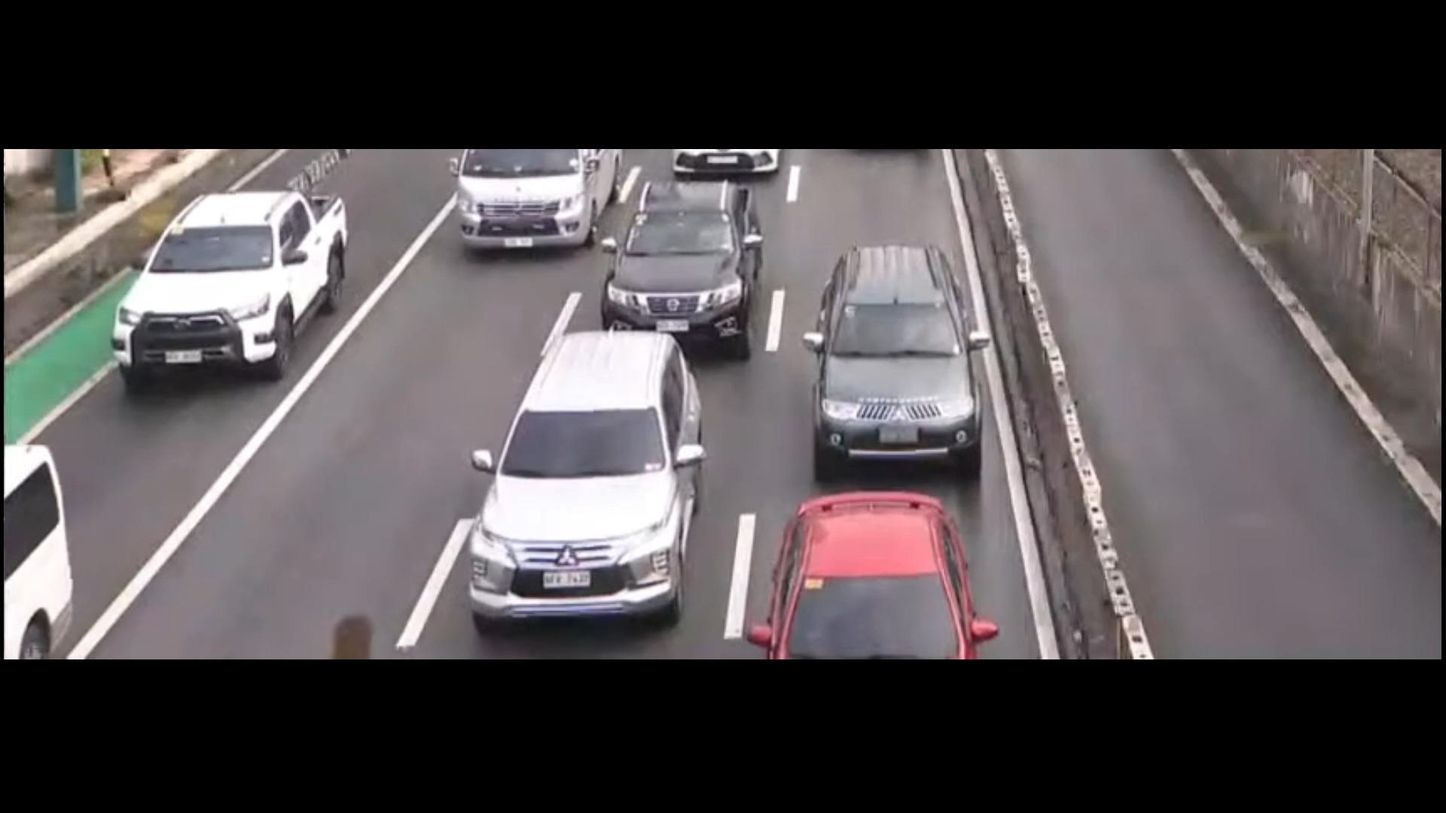Pickup: (109, 192, 345, 376)
SUV: (480, 326, 695, 614), (813, 250, 972, 470), (602, 183, 753, 348)
Sedan: (757, 487, 1000, 659)
Van: (439, 145, 629, 254)
